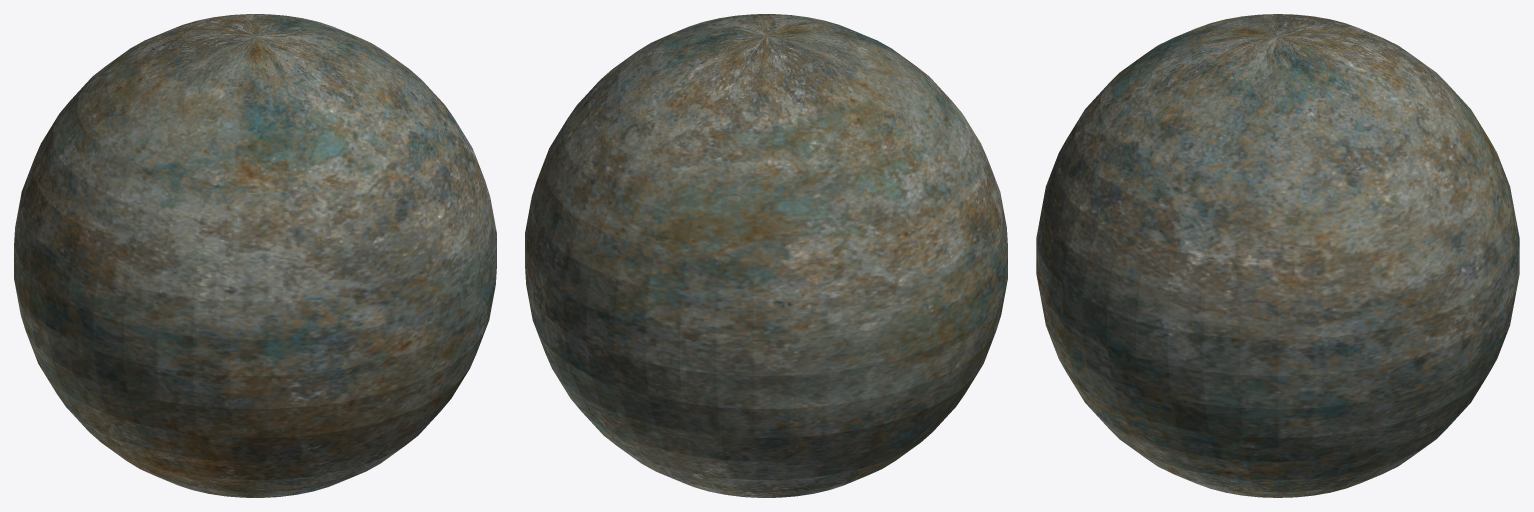
File: ball.obj
3 renders of one model, left to right at view 1: azimuth 30°, elevation 25°; view 2: azimuth 150°, elevation 25°; view 3: azimuth 270°, elevation 25°, orthographic.
Parts seen in each view (by area): view 1: Sphere_Sphere.001; view 2: Sphere_Sphere.001; view 3: Sphere_Sphere.001.
Part boxes in pixels (<box>): Sphere_Sphere.001: <box>14,14,496,497</box>; Sphere_Sphere.001: <box>525,14,1007,497</box>; Sphere_Sphere.001: <box>1036,14,1519,497</box>.
Bounding box in the file's own units: 1.99 × 2 × 1.99.
Materials: 1 (1 with a texture image).
